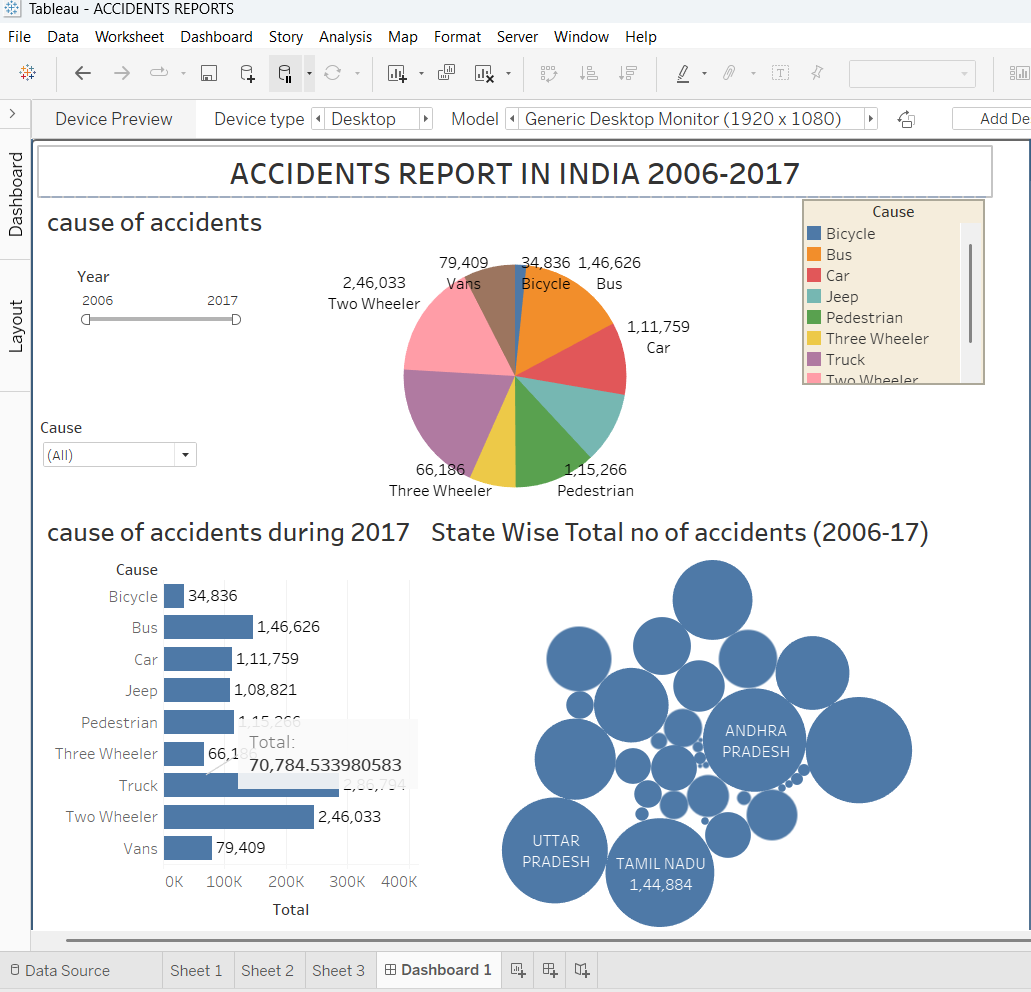

Layout of this report page (visuals, bound fields, positions):
{"tool":"tableau","page":{"name":"Dashboard 1","canvas":[1000,800],"ordinal":0},"visuals":[{"type":"title","box":[8,8,952,49]},{"type":"worksheet","title":"Sheet 2","mark":"Pie","box":[8,57,952,310.3]},{"type":"legend","title":"Sheet 2","param":"[federated.1c7mqb41ekvtto12h9l9g0c305a1].[none:CAUSE:nk]","box":[771,60,183,186]},{"type":"filter","title":"Sheet 2","param":"[federated.1c7mqb41ekvtto12h9l9g0c305a1].[none:Year:qk]","box":[46,127,168,73]},{"type":"filter","title":"Sheet 3","param":"[federated.1c7mqb41ekvtto12h9l9g0c305a1].[none:CAUSE:nk]","box":[9,278,160,53]},{"type":"worksheet","title":"Sheet 3","mark":"Automatic","rows":["CAUSE"],"cols":["Total"],"box":[8,367.3,383.6,424.7]},{"type":"worksheet","title":"Sheet 1","mark":"Circle","box":[391.6,367.3,568.4,424.7]}]}

Visuals, with their boxes in screenshot pixels (x1, y1, x2, y2):
title: box(27, 145, 1030, 197)
"Sheet 2" worksheet (Pie marks): box(27, 197, 1030, 524)
"Sheet 2" legend: box(832, 200, 1024, 396)
"Sheet 2" filter: box(67, 271, 244, 348)
"Sheet 3" filter: box(28, 430, 197, 486)
"Sheet 3" worksheet: box(27, 524, 432, 972)
"Sheet 1" worksheet (Circle marks): box(432, 524, 1030, 972)
